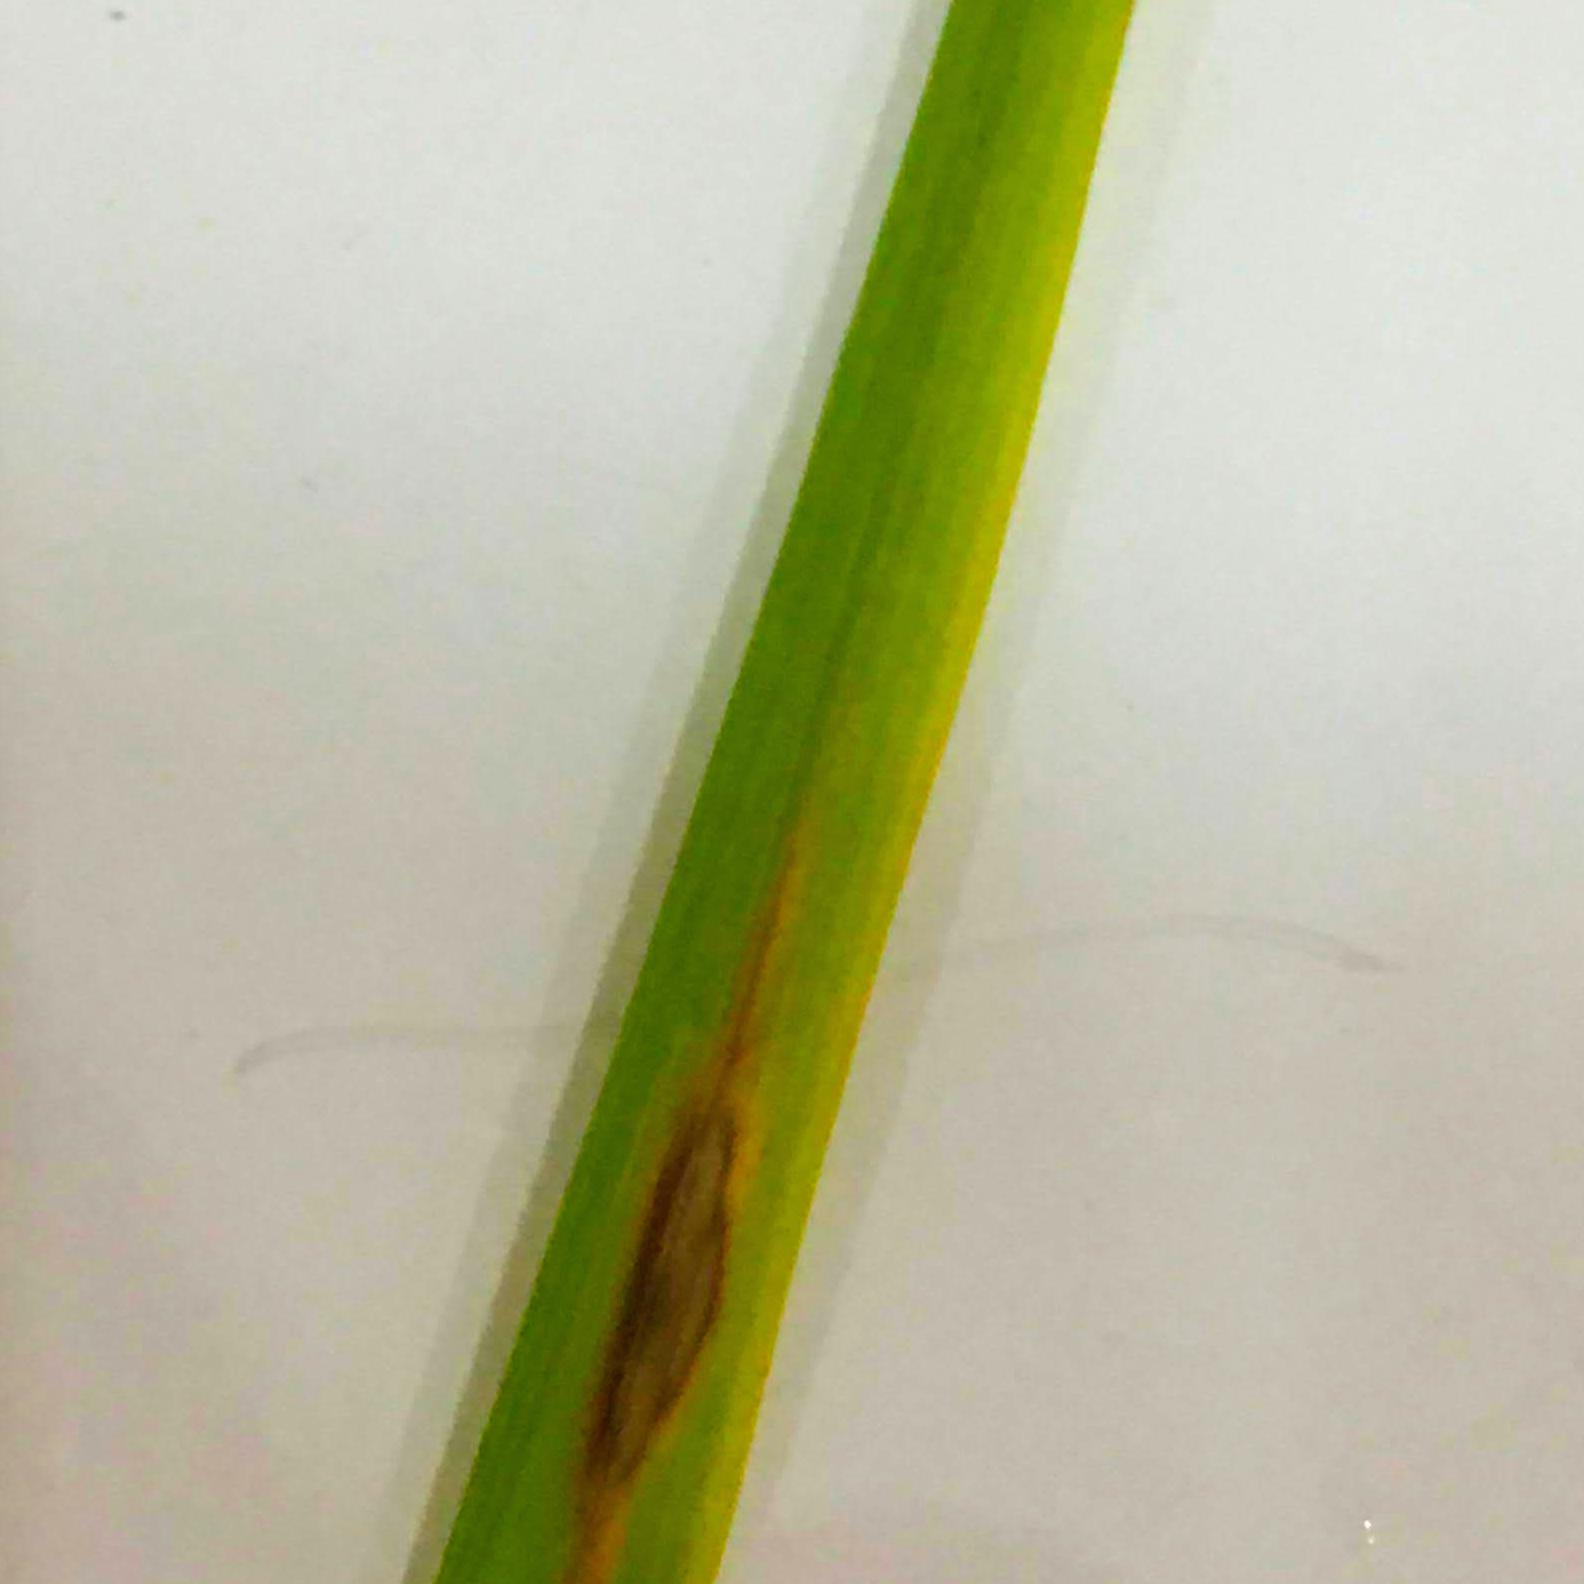1 RiceBlast: (561, 981, 747, 1556)
